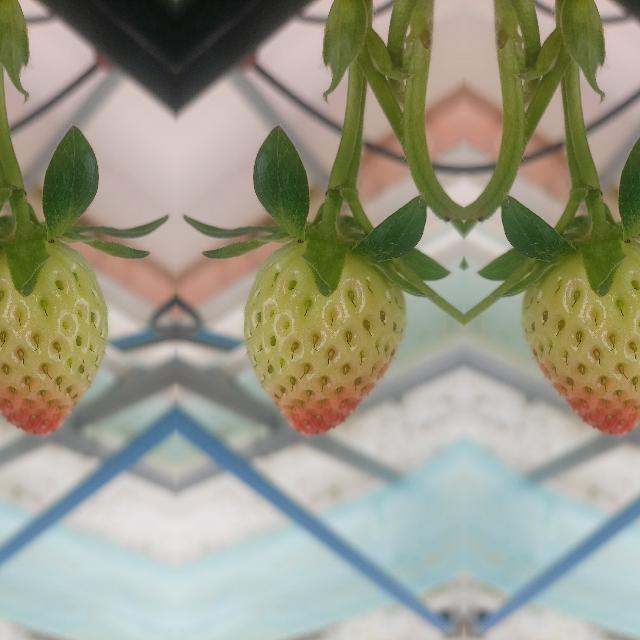Health_50: (243, 239, 405, 433), (521, 239, 640, 433), (0, 239, 107, 433)
